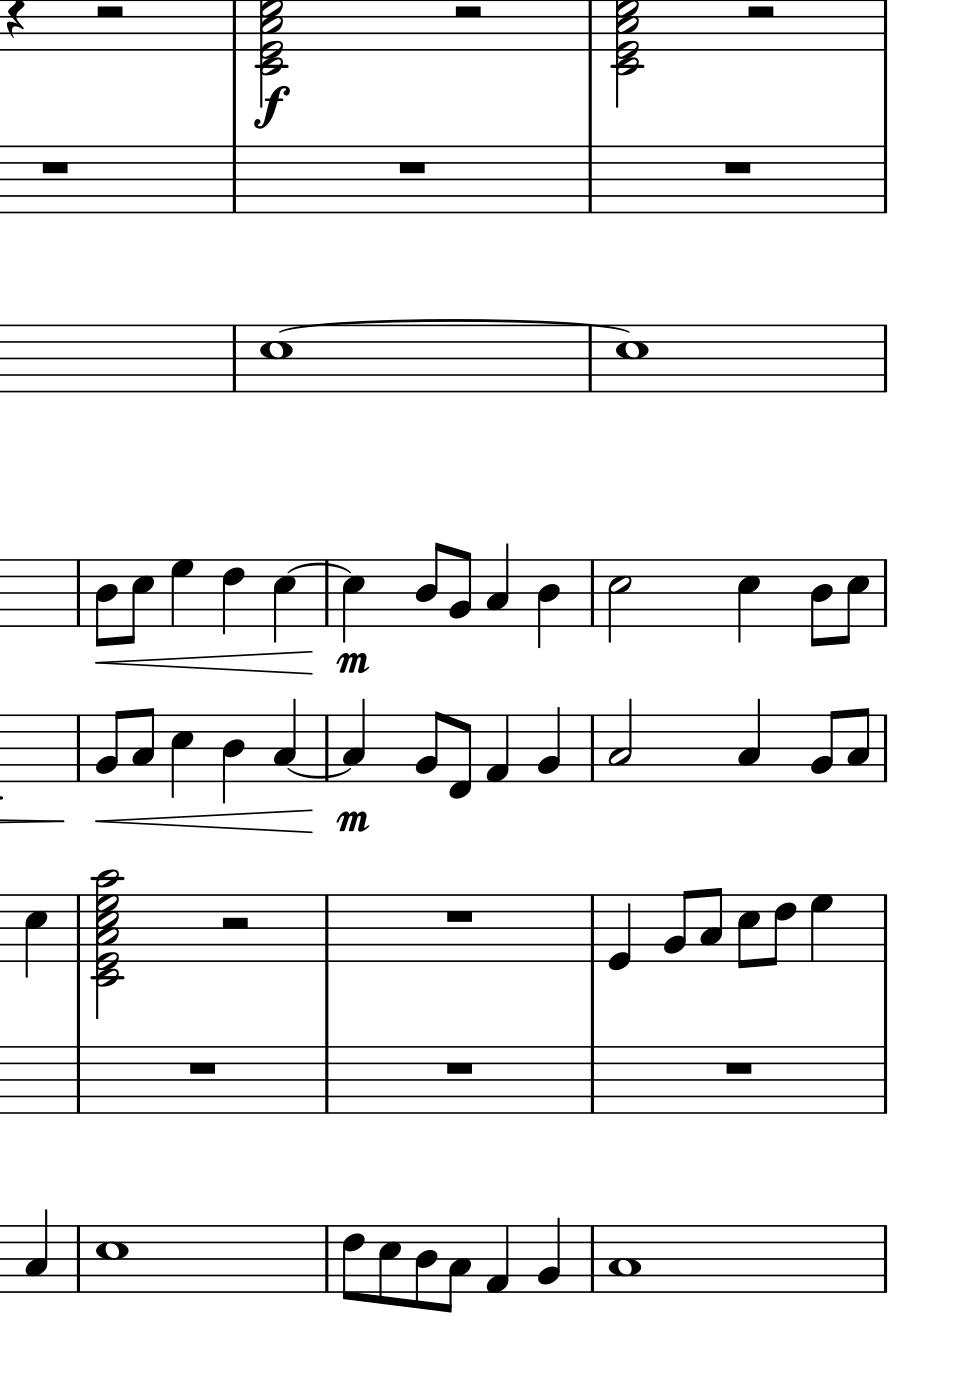1_3: (607, 1223, 641, 1295)
1_5: (258, 322, 293, 393), (94, 1224, 129, 1295), (615, 323, 649, 394)
2_3: (606, 697, 633, 782)
2_5: (605, 559, 631, 644)
4_0: (606, 892, 633, 971)
4_1: (484, 1223, 510, 1294)
4_2: (533, 705, 561, 783), (536, 1216, 562, 1294)
4_3: (484, 542, 510, 628), (272, 696, 297, 782), (736, 697, 762, 783), (342, 697, 367, 782), (23, 1208, 48, 1294)
4_4: (220, 713, 245, 804), (535, 558, 559, 648)
4_5: (339, 558, 366, 645), (735, 558, 760, 646), (168, 712, 193, 800), (270, 558, 296, 644), (22, 892, 47, 981)
4_6: (218, 558, 244, 637)
4_7: (168, 557, 193, 629), (808, 892, 833, 963)
8_-1: (447, 713, 472, 802)
8_1: (484, 713, 510, 784)
8_2: (661, 889, 692, 963), (412, 710, 443, 782), (93, 709, 124, 783), (809, 709, 838, 783), (448, 547, 472, 628)
8_3: (442, 1223, 471, 1314), (698, 887, 723, 964), (845, 706, 870, 784), (132, 707, 155, 784)
8_4: (413, 540, 447, 628), (93, 558, 118, 649), (413, 1224, 438, 1311), (808, 558, 832, 649)
8_5: (123, 558, 154, 648), (838, 557, 869, 646), (734, 892, 760, 970), (377, 1223, 401, 1308)
8_6: (767, 894, 797, 968), (338, 1223, 364, 1303)
Crescendo_hairpin: (95, 808, 313, 834), (97, 650, 313, 676)
Rests1: (36, 157, 72, 176), (395, 158, 428, 177), (721, 157, 754, 176), (185, 1058, 218, 1076), (443, 907, 476, 925), (442, 1059, 476, 1076), (721, 1059, 755, 1076)
Rests2: (90, 2, 128, 24), (451, 2, 486, 23), (743, 2, 778, 23), (218, 915, 253, 933)
Single_barline: (225, 324, 243, 392), (876, 324, 893, 392), (318, 1047, 335, 1115), (581, 329, 599, 392), (225, 146, 242, 213), (876, 1225, 893, 1292), (318, 1226, 335, 1293), (581, 147, 598, 213), (318, 715, 335, 780), (70, 1226, 87, 1291), (877, 559, 893, 627), (877, 146, 893, 213), (71, 895, 87, 962), (70, 560, 86, 626), (319, 560, 335, 626), (318, 895, 334, 961), (584, 895, 600, 961), (584, 1226, 600, 1292), (70, 1048, 86, 1112), (877, 1046, 892, 1115), (584, 560, 600, 624), (584, 1047, 599, 1115), (585, 715, 600, 780), (878, 894, 892, 963), (878, 714, 892, 782), (71, 715, 85, 782), (582, 1, 599, 51), (226, 1, 243, 50), (877, 1, 893, 50)
Slur: (280, 317, 627, 333), (290, 768, 352, 779), (286, 562, 349, 573)
f: (253, 84, 292, 128)
m: (332, 807, 372, 836)
mp: (334, 650, 370, 676)
